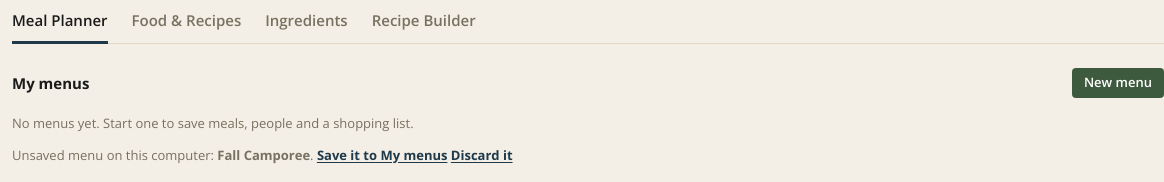
Test: MenuMonsterShelfTool hub, handoff › Scout_KeepsTheLocalMenu_WhenTheSaveThrows
This screenshot has width=1164, height=182.
Click the button "Save it to My menus" at [382, 155], box [317,146,447,165]
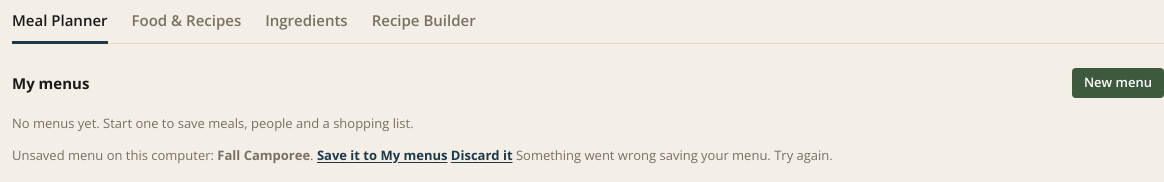
Check: the text "Something went wrong saving your menu. Try again." is shown, box [512,146,833,164]
